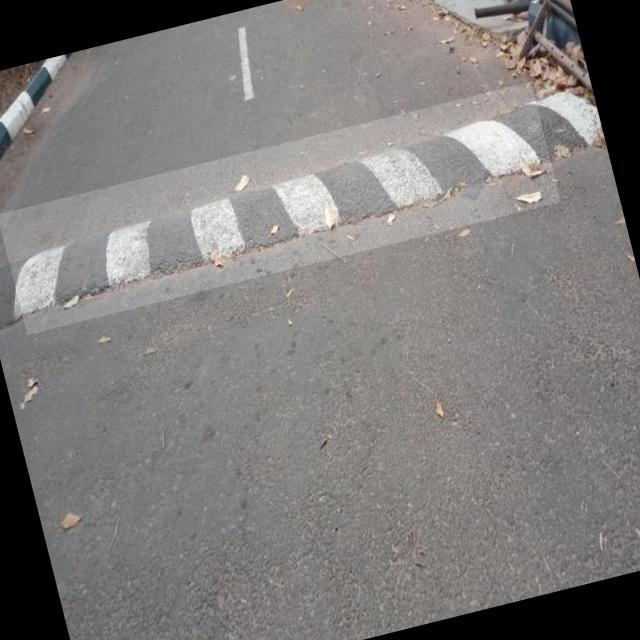bump: (0, 82, 560, 335)
